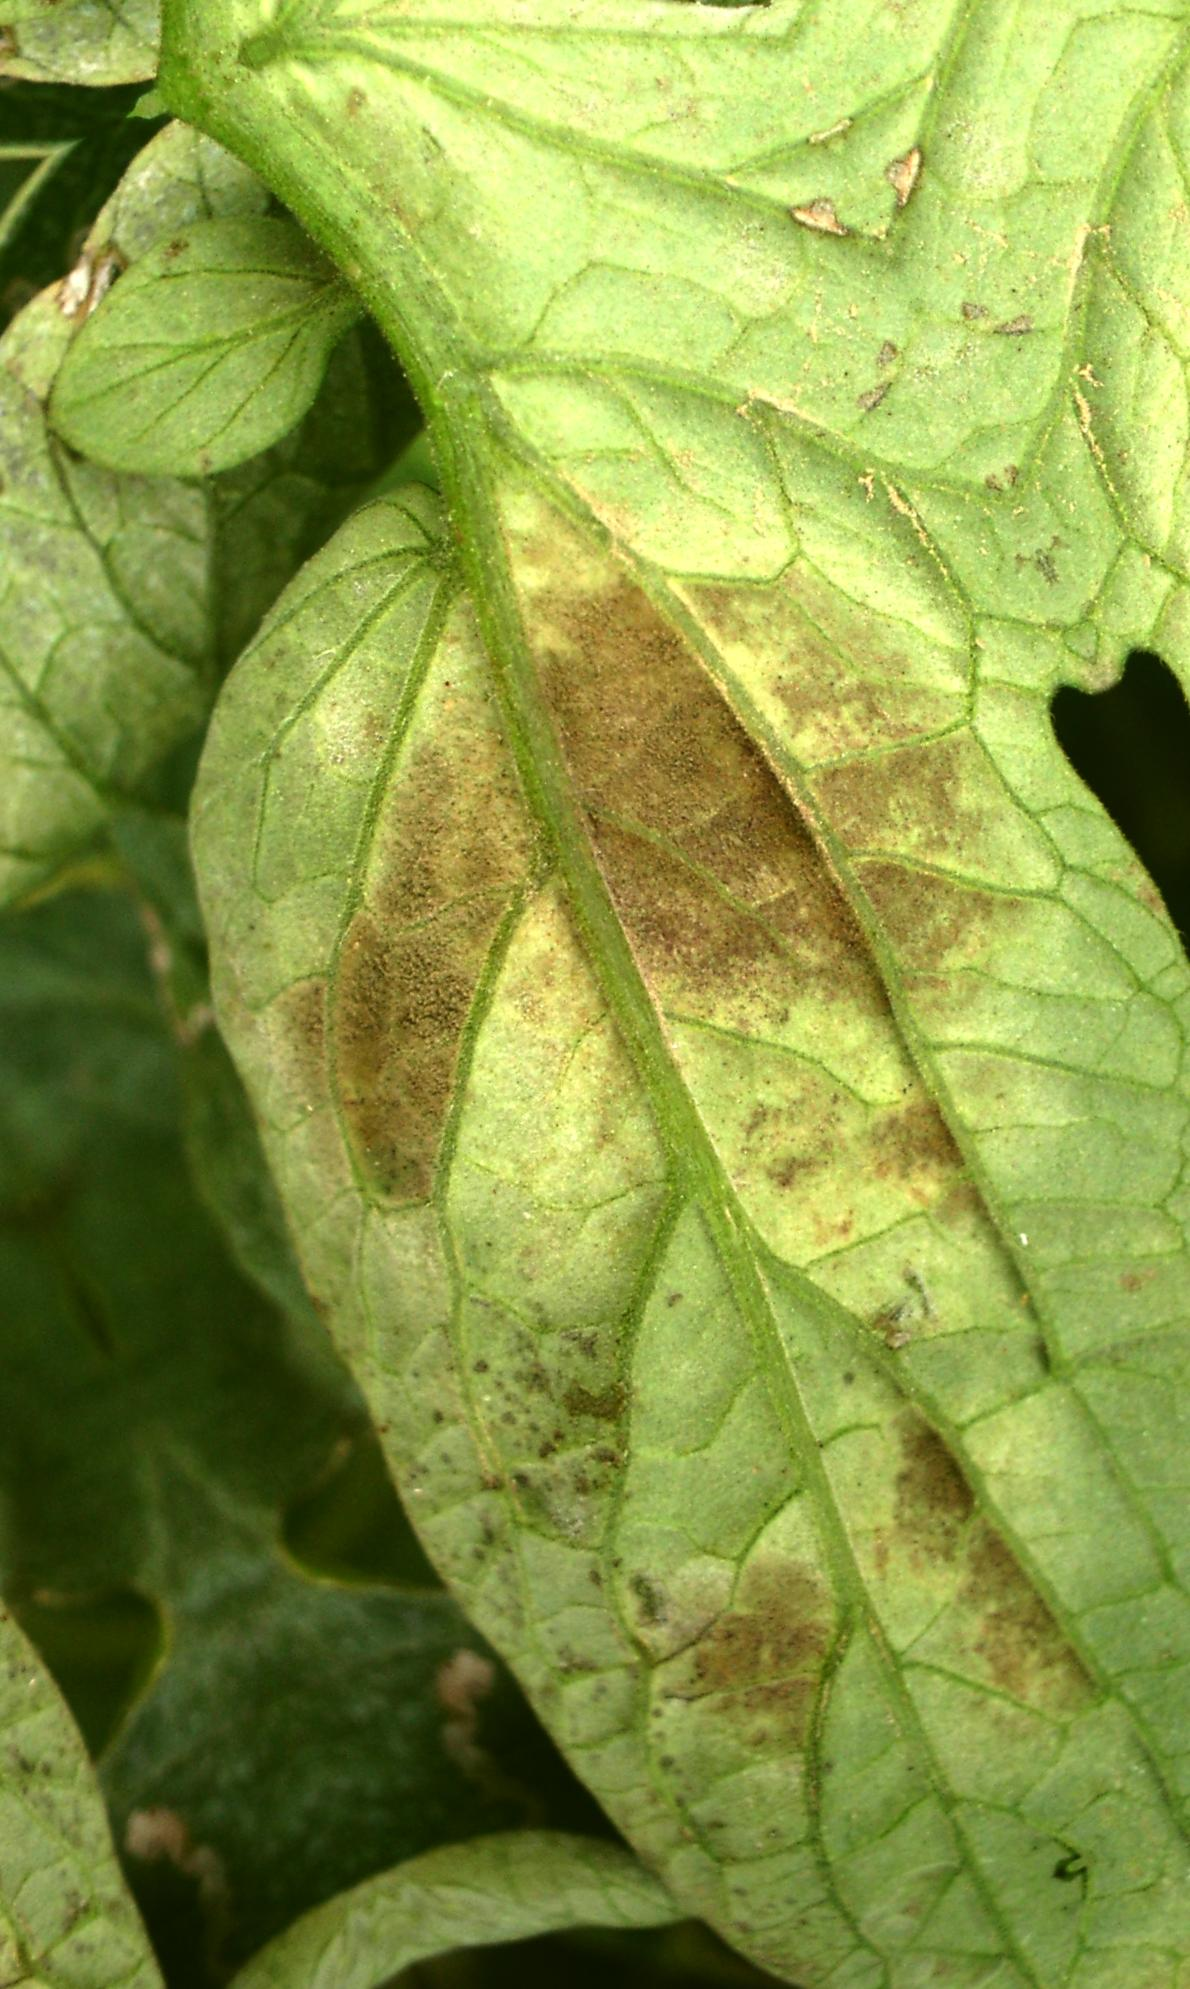Tomato mold leaf: (0, 0, 1190, 1989), (0, 152, 488, 1024)
